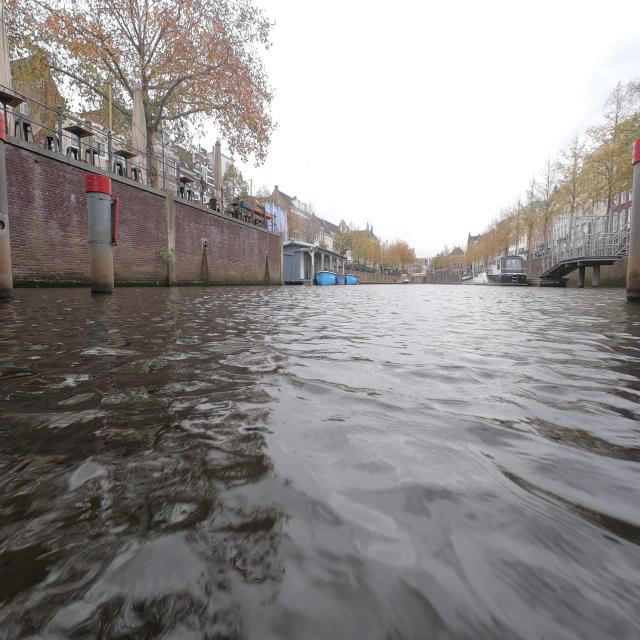boat: (473, 255, 528, 286), (316, 271, 336, 285), (346, 274, 360, 285)
sky: (256, 4, 638, 250), (6, 4, 276, 182)
wall: (6, 136, 300, 286), (110, 174, 282, 286)
water: (10, 290, 638, 632)
